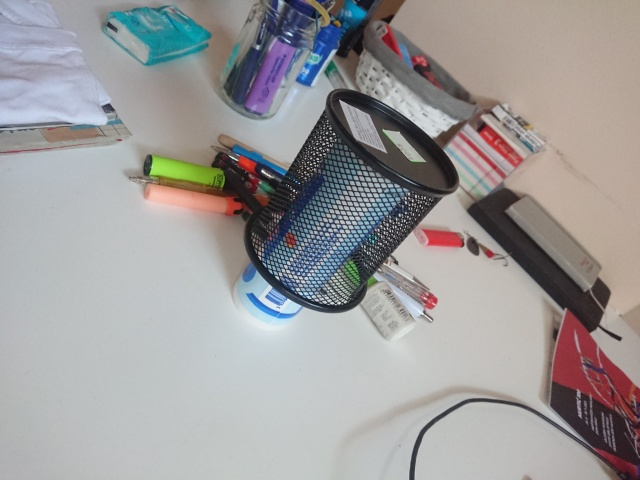Solana Pag Fine Sea Salt 250g: (228, 119, 421, 330)
